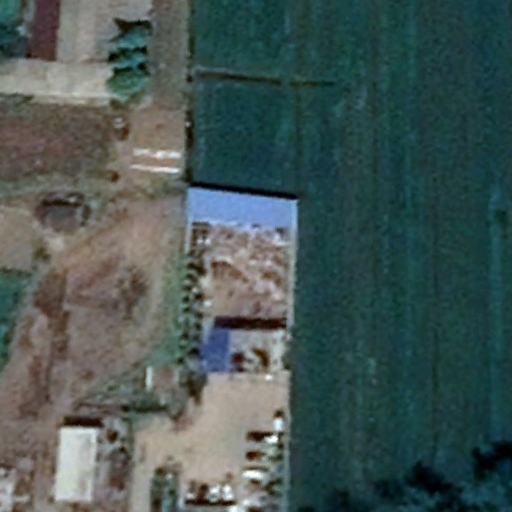msw: (198, 222, 289, 327)
